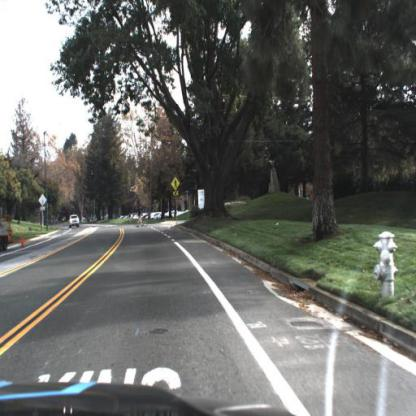car: (69, 211, 82, 229), (69, 213, 81, 229)
pedestrian: (135, 207, 150, 230)
